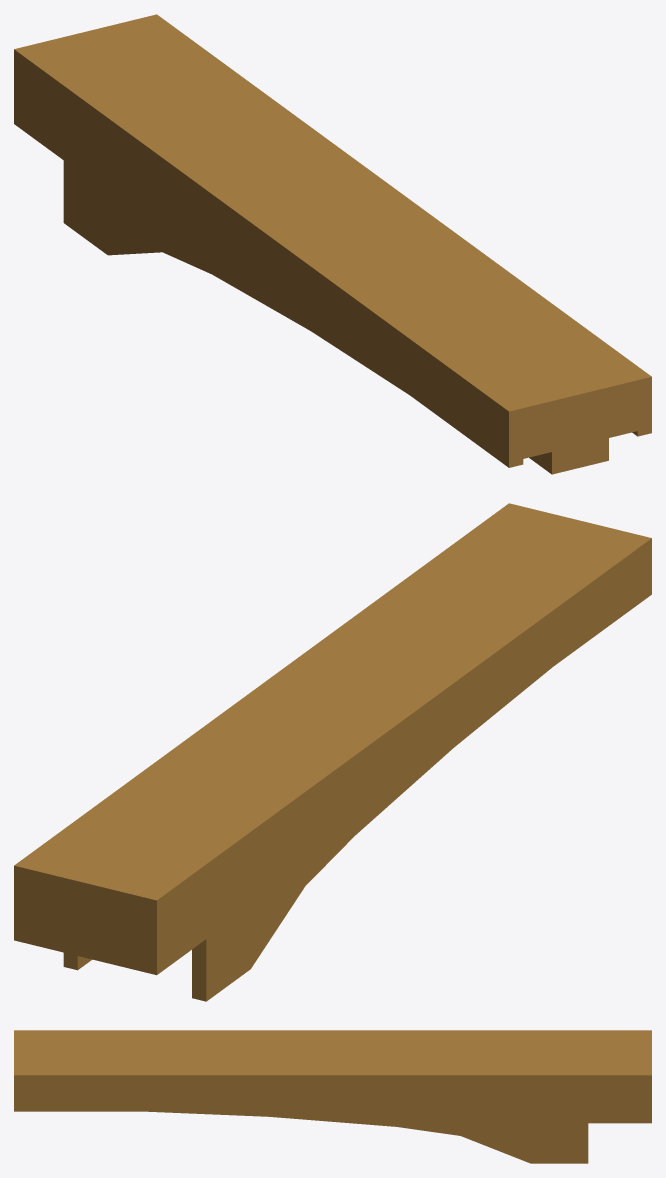
The model's file is u2_ceiling_support_asset.fbx.
3 views of the same model, one above another, from view 1: azimuth 30°, elevation 25°; view 2: azimuth 150°, elevation 25°; view 3: azimuth 270°, elevation 25° (orthographic). The views are drawn at different scales.
Parts seen in each view (by area): view 1: pasted__pCube35; view 2: pasted__pCube35; view 3: pasted__pCube35.
Part boxes in pixels (bbox=[...]): pasted__pCube35: bbox=[14, 14, 651, 474]; pasted__pCube35: bbox=[14, 503, 651, 1001]; pasted__pCube35: bbox=[14, 1030, 651, 1163].
Bounding box in the file's own units: 1.04 × 0.9555 × 6.24.
